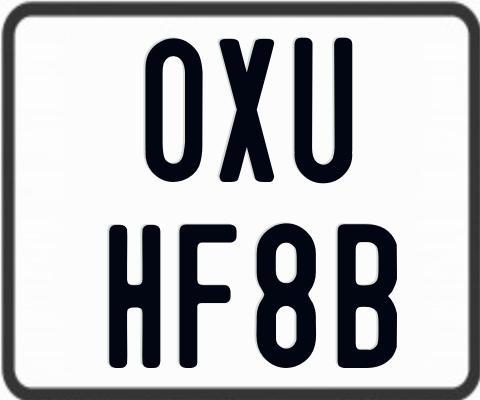0: (144, 36, 206, 182)
8: (254, 220, 317, 367)
B: (336, 221, 397, 371)
F: (176, 221, 237, 371)
H: (108, 224, 163, 367)
U: (293, 36, 353, 187)
X: (216, 39, 274, 182)
